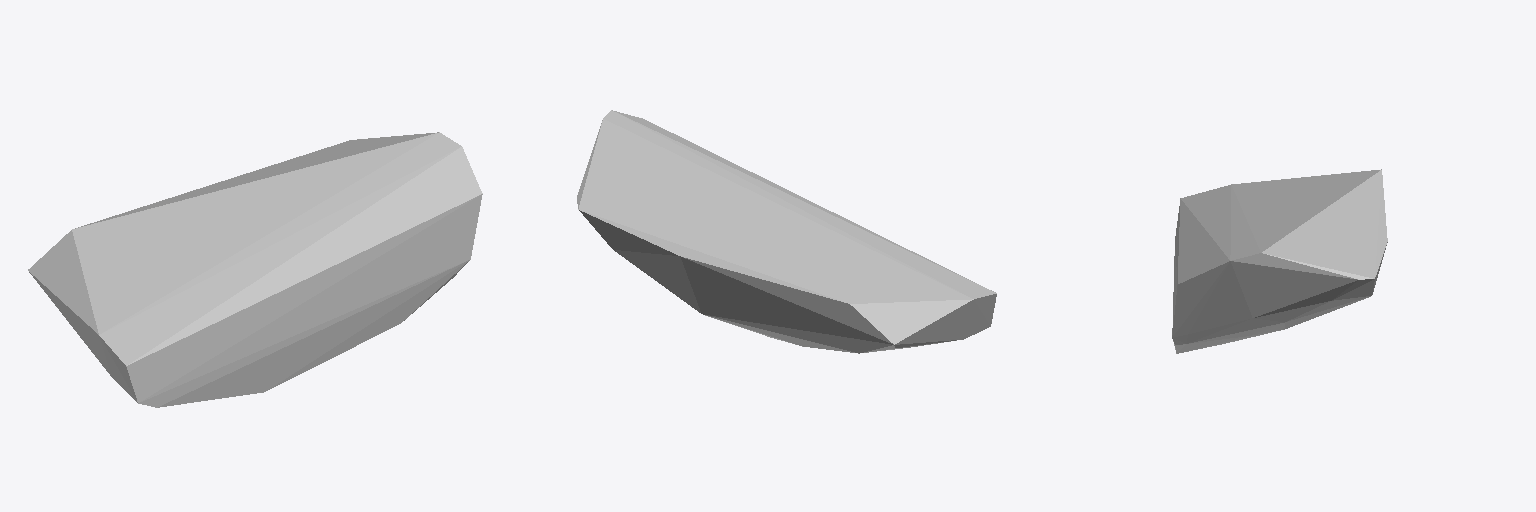
The model's file is mug_cup_collision_4.obj.
3 renders of one model, left to right at view 1: azimuth 30°, elevation 25°; view 2: azimuth 150°, elevation 25°; view 3: azimuth 270°, elevation 25°, orthographic.
Size of the model in its own units: 0.0495 by 0.023 by 0.0255.